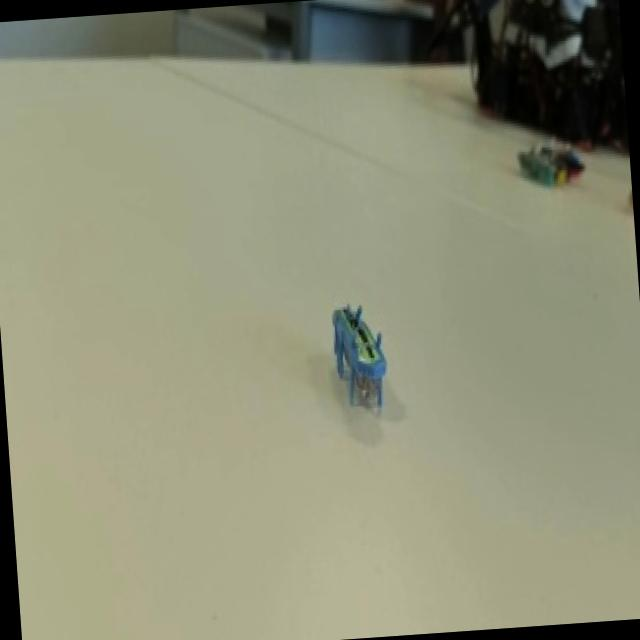3_NanoBug_Celeste: (291, 266, 418, 427)
